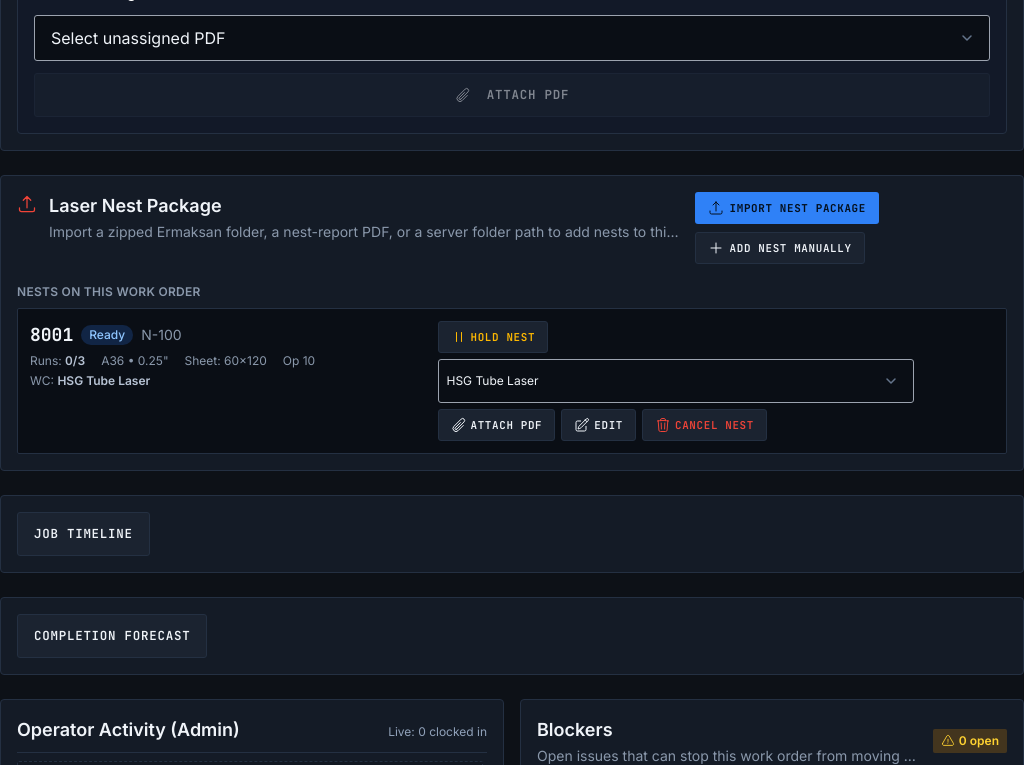
per-nest work-center reassign › shows the nest op work center and reassigns via updateOperation with the op version
(page scrolled)
Select "Ermaksan Fiber Laser" in the dropdown named "Work center for 8001". click: [676, 381]
box: [438, 359, 914, 403]
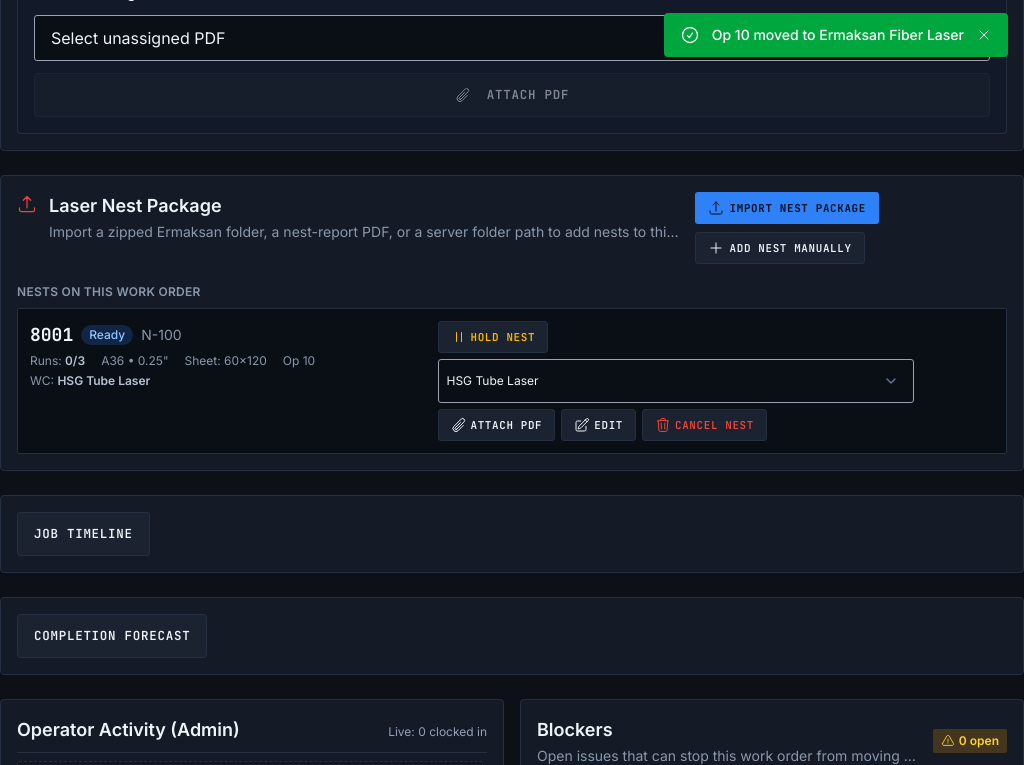
Expected: the text "Op 10 moved to Ermaksan Fiber Laser" is shown, [712, 25, 964, 45]
